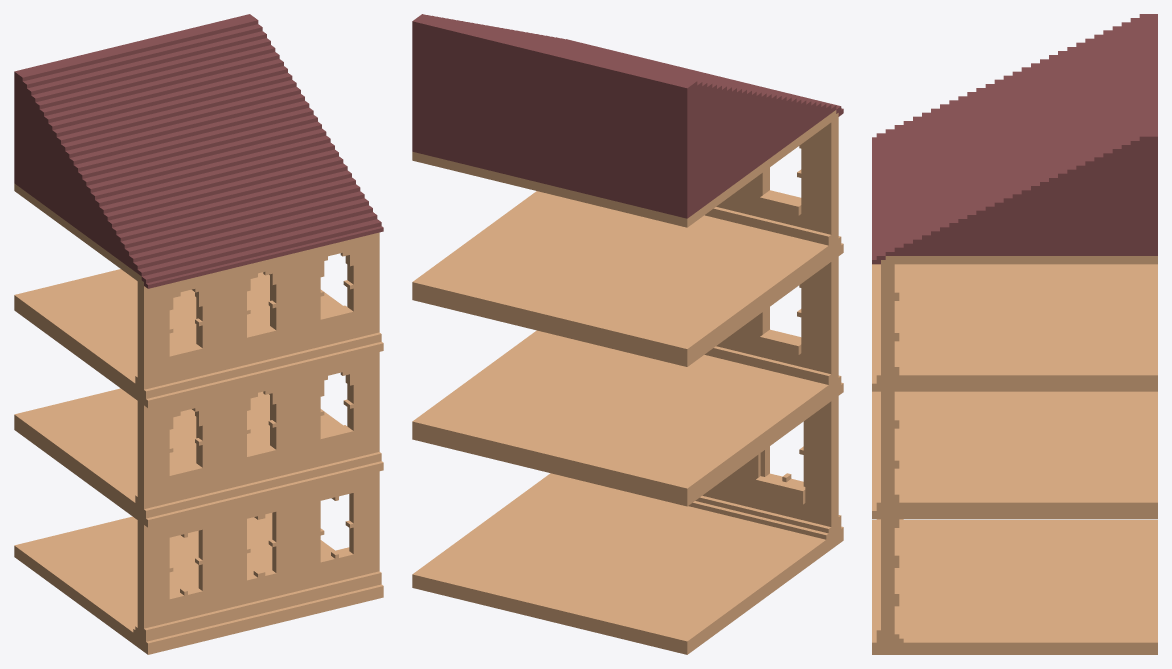
Rendered from Filler LSU Short Building 2-1.obj.
The picture shows the model from 3 angles, left to right: view 1: azimuth 30°, elevation 25°; view 2: azimuth 150°, elevation 25°; view 3: azimuth 270°, elevation 25°; orthographic projection. The views are drawn at different scales.
Parts seen in each view (by area): view 1: Filler LSU Short Building 2-1; view 2: Filler LSU Short Building 2-1; view 3: Filler LSU Short Building 2-1.
Boxes of the visible parts, bbox=[...] form: Filler LSU Short Building 2-1: bbox=[14, 14, 383, 654]; Filler LSU Short Building 2-1: bbox=[412, 14, 843, 654]; Filler LSU Short Building 2-1: bbox=[872, 14, 1157, 654].
Bounding box in the file's own units: 64 × 126 × 63.
Materials: 1 (1 with a texture image).
